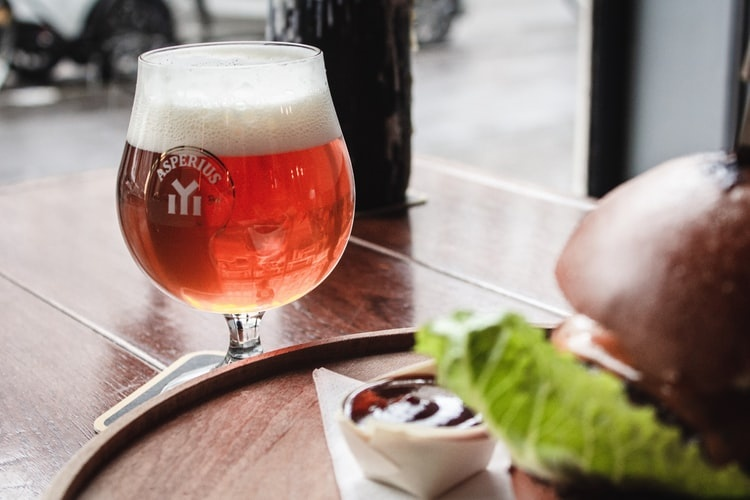whiskey: (100, 34, 341, 357)
